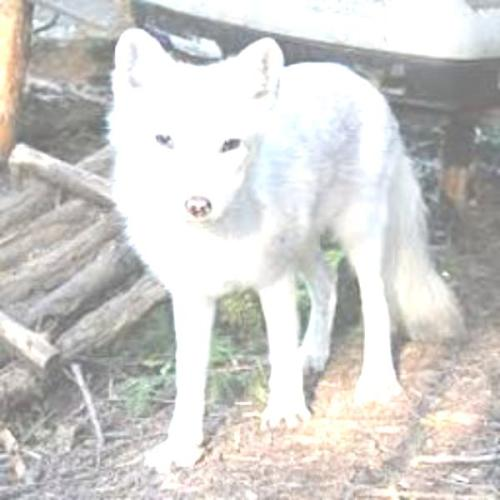arctic_fox-endangered: (108, 24, 462, 471)
